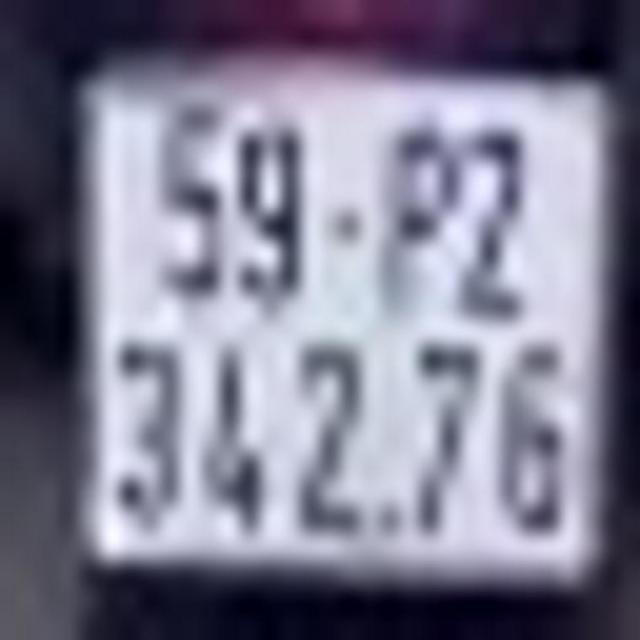2: (285, 331, 362, 536), (464, 125, 531, 318)
3: (106, 329, 187, 537)
4: (200, 335, 268, 539)
5: (151, 97, 220, 298)
6: (500, 332, 573, 540)
7: (412, 337, 485, 537)
9: (235, 105, 309, 314)
P: (379, 128, 462, 322)
